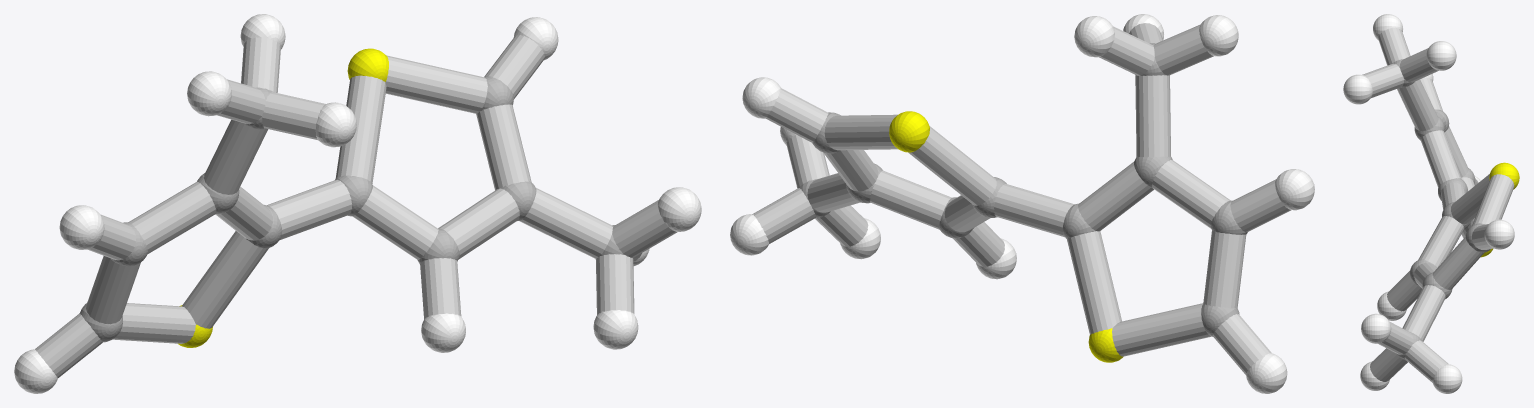
File: color.glb
3 views of the same model, side by side, from view 1: azimuth 30°, elevation 25°; view 2: azimuth 150°, elevation 25°; view 3: azimuth 270°, elevation 25° (orthographic). The views are drawn at different scales.
Visible parts, largest first — view 1: grp7965, grp3621, grp1, grp7241; view 2: grp7965, grp3621, grp1, grp7241; view 3: grp7965, grp3621, grp1, grp7241.
Part boxes in pixels (x1,y1,x2,y2): grp7965: [35, 35, 677, 377]; grp3621: [14, 14, 701, 393]; grp1: [79, 76, 633, 342]; grp7241: [178, 48, 388, 347]; grp7965: [752, 23, 1291, 374]; grp3621: [730, 14, 1314, 393]; grp1: [799, 43, 1247, 336]; grp7241: [889, 111, 1123, 362]; grp7965: [1362, 27, 1514, 382]; grp3621: [1343, 14, 1514, 393]; grp1: [1392, 59, 1490, 359]; grp7241: [1481, 162, 1519, 257].
Bounding box in the file's own units: 9.44 × 5.43 × 3.5.
